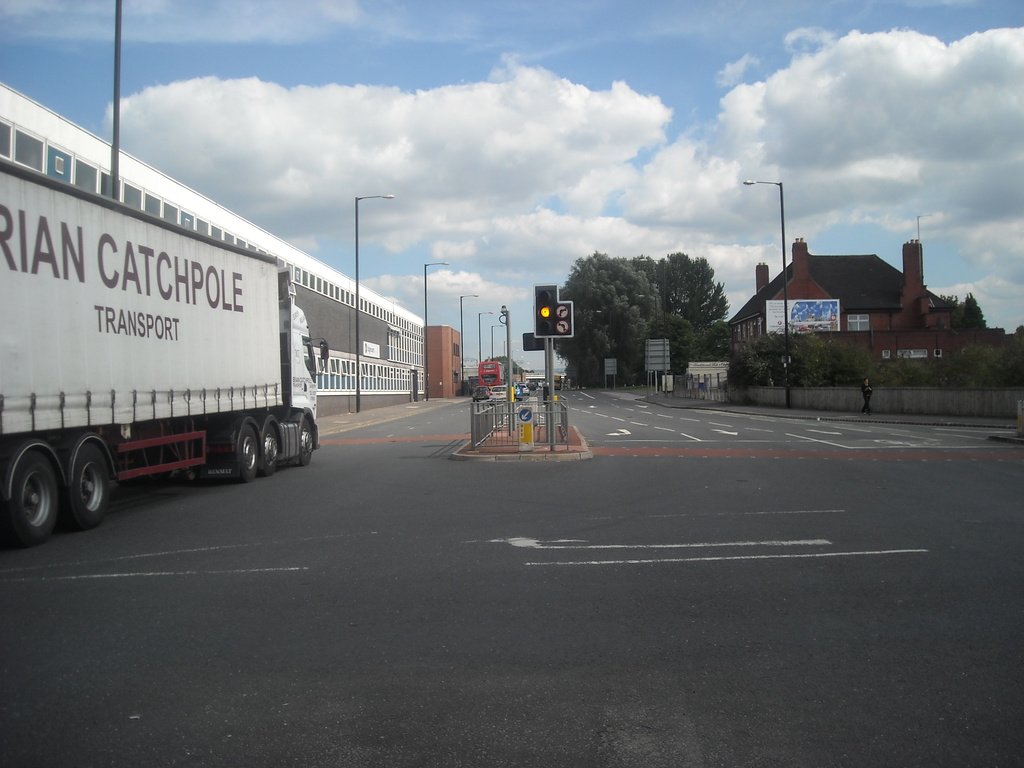Car: (490, 383, 506, 399), (471, 385, 487, 399), (513, 383, 527, 394)
